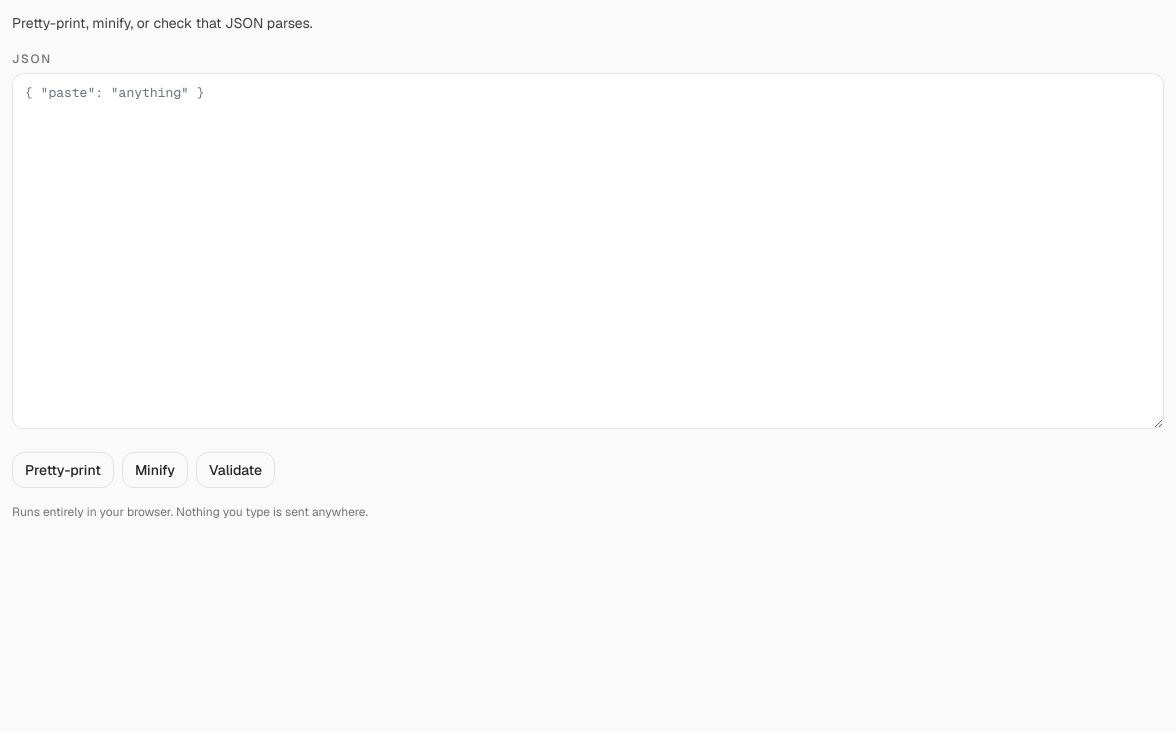
Test: JsonFormatter › points at the problem instead of crashing
Click the text box labelled "JSON": (588, 251) [12, 73, 1164, 429]
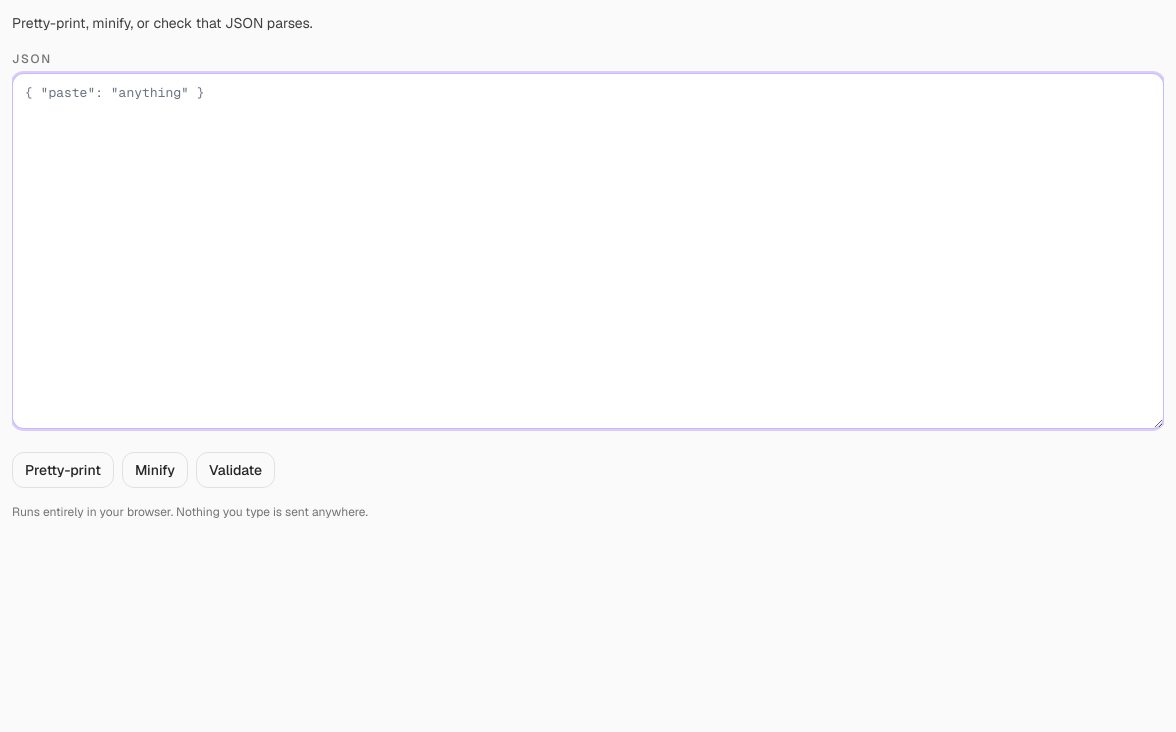
Type keys "{\"a\":}"
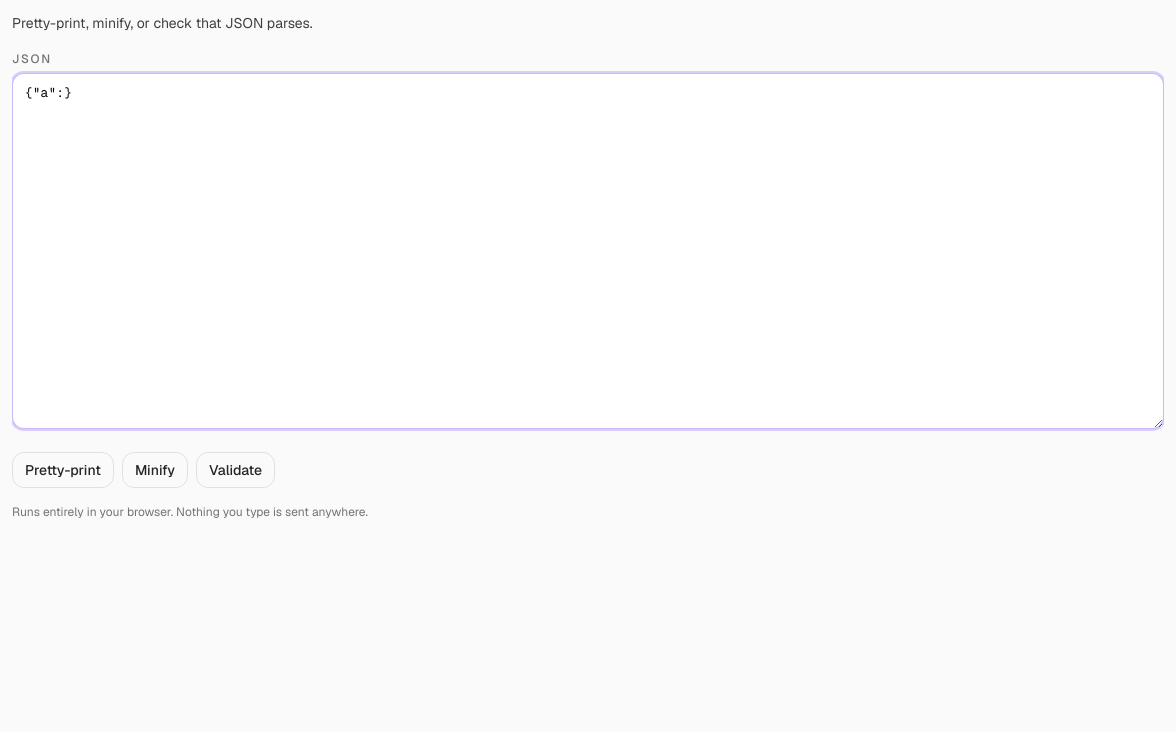
Click the button "Validate": (236, 470) [196, 452, 275, 488]
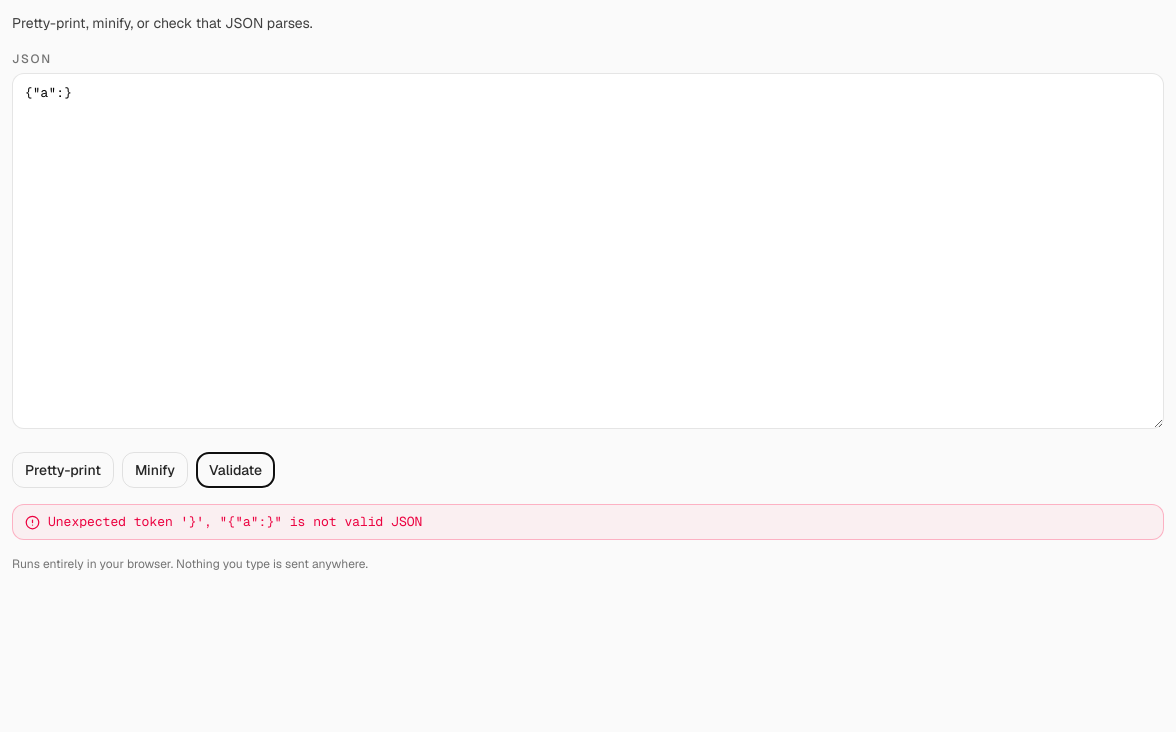
Now the message reads "Unexpected token '}', \"{\"a\":}\" is not valid JSON", box [48, 513, 422, 530]
